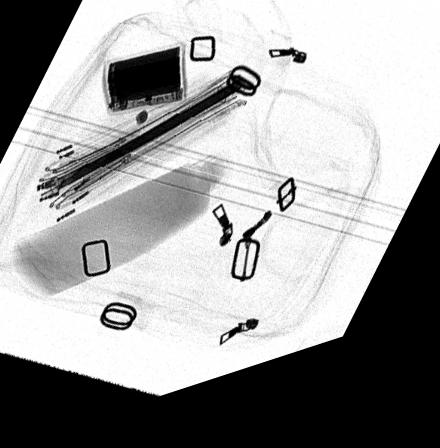Powerbank: (101, 54, 187, 125)
